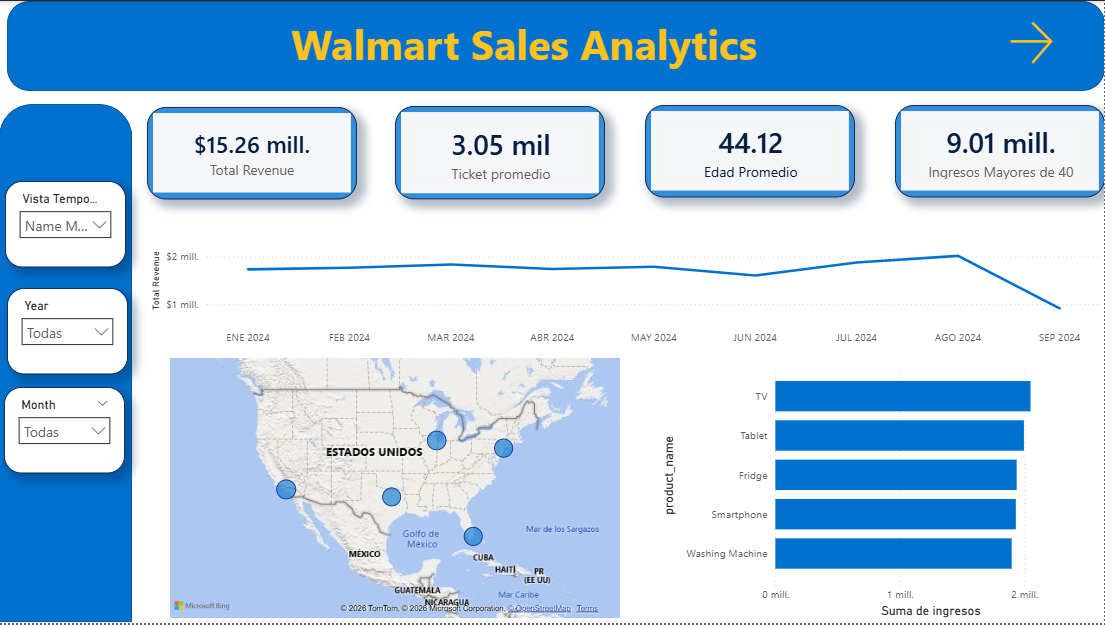

This screenshot's page, from the dashboard's own definition file:
{"tool":"powerbi","page":{"name":"Resumen Ejecutivo","canvas":[1280,720],"ordinal":0},"visuals":[{"type":"shape","box":[9.7,0,1270.8,104.2],"z":0},{"type":"textbox","box":[333.8,11.2,565,80],"z":1000},{"type":"shape","box":[0,119.4,154.2,600],"z":2000},{"type":"slicer","fields":{"Values":["Vista Temporal.Vista Temporal"]},"box":[6.9,208.3,140.3,100],"z":3000},{"type":"slicer","fields":{"Values":["Calendario.Year"]},"box":[9.7,331.9,140.3,100],"z":4000},{"type":"slicer","fields":{"Values":["Calendario.Month"]},"box":[5.6,447.2,140.3,100],"z":5000},{"type":"cardVisual","fields":{"Data":["Medidas.Total Revenue"]},"box":[170.8,122.2,243.1,106.9],"z":6000},{"type":"cardVisual","fields":{"Data":["Medidas.Ticket promedio"]},"box":[458.3,121.7,243.3,108.3],"z":7000},{"type":"cardVisual","fields":{"Data":["Medidas.Promedio Edad"]},"box":[748.3,120,243.3,106.7],"z":8000},{"type":"cardVisual","fields":{"Data":["Medidas.Ingresos Mayores de 40"]},"box":[1036.7,120,243.3,106.7],"z":9000},{"type":"lineChart","fields":{"Category":["Calendario.Name Month"],"Y":["Medidas.Total Revenue"]},"box":[171.7,255,1108.3,153.3],"z":10000},{"type":"barChart","fields":{"Category":["Transacciones_y_Logistica.product_name"],"Y":["Sum(Transacciones_y_Logistica.ingresos)"]},"box":[761.7,408.3,518.3,310],"z":11000},{"type":"map","fields":{"Category":["Transacciones_y_Logistica.Ciudad"],"Size":["Medidas.Total Revenue"]},"box":[193.8,408.8,530,311.2],"z":12000},{"type":"actionButton","box":[1158.8,12.5,82.5,66.2],"z":13000}]}

Visuals, with their boxes in screenshot pixels (x1, y1, x2, y2), scaled from the page's 1280x720 canvas onto the 1105x629 screenshot:
shape: l=8, t=0, r=1104, b=91
textbox: l=288, t=10, r=776, b=80
shape: l=0, t=104, r=133, b=628
slicer - Vista Temporal.Vista Temporal: l=6, t=182, r=127, b=269
slicer - Calendario.Year: l=8, t=290, r=129, b=377
slicer - Calendario.Month: l=5, t=391, r=126, b=478
cardVisual - Medidas.Total Revenue: l=147, t=107, r=357, b=200
cardVisual - Medidas.Ticket promedio: l=396, t=106, r=606, b=201
cardVisual - Medidas.Promedio Edad: l=646, t=105, r=856, b=198
cardVisual - Medidas.Ingresos Mayores de 40: l=895, t=105, r=1104, b=198
lineChart - Calendario.Name Month x Medidas.Total Revenue: l=148, t=223, r=1104, b=357
barChart - Transacciones_y_Logistica.product_name x Sum(Transacciones_y_Logistica.ingresos): l=658, t=357, r=1104, b=628
map - Transacciones_y_Logistica.Ciudad x Medidas.Total Revenue: l=167, t=357, r=625, b=628
actionButton: l=1000, t=11, r=1072, b=69
